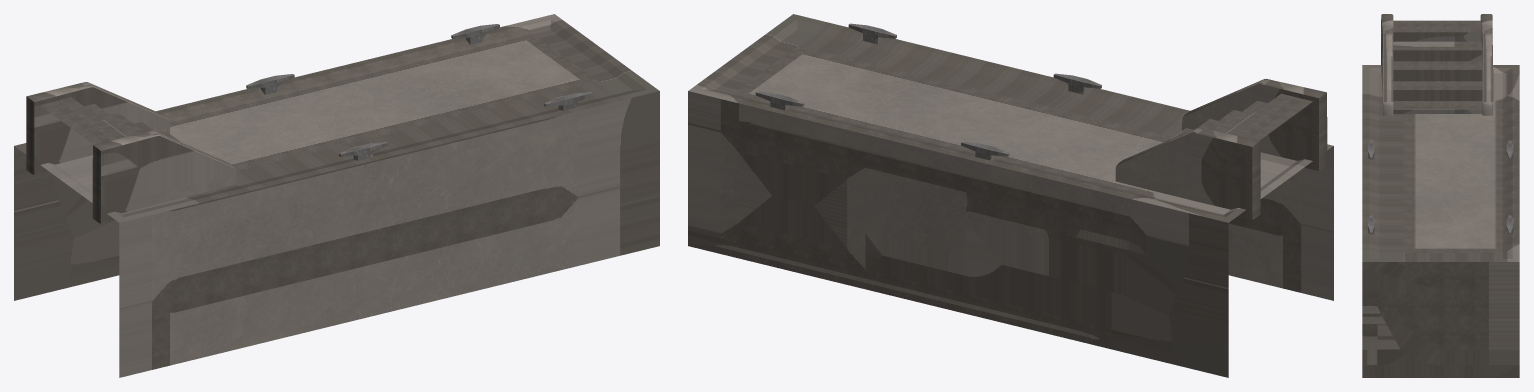
The model's file is Trottoir_3.2.fbx.
3 renders of one model, left to right at view 1: azimuth 30°, elevation 25°; view 2: azimuth 150°, elevation 25°; view 3: azimuth 270°, elevation 25°, orthographic. The views are drawn at different scales.
Visible parts, largest first — view 1: Trottoir_3.2; view 2: Trottoir_3.2; view 3: Trottoir_3.2.
Boxes of the visible parts, x1,y1,x2,y2 form: Trottoir_3.2: [14, 14, 659, 377]; Trottoir_3.2: [688, 14, 1333, 377]; Trottoir_3.2: [1362, 14, 1519, 377].
Size of the model in its own units: 1773 by 682 by 591.
